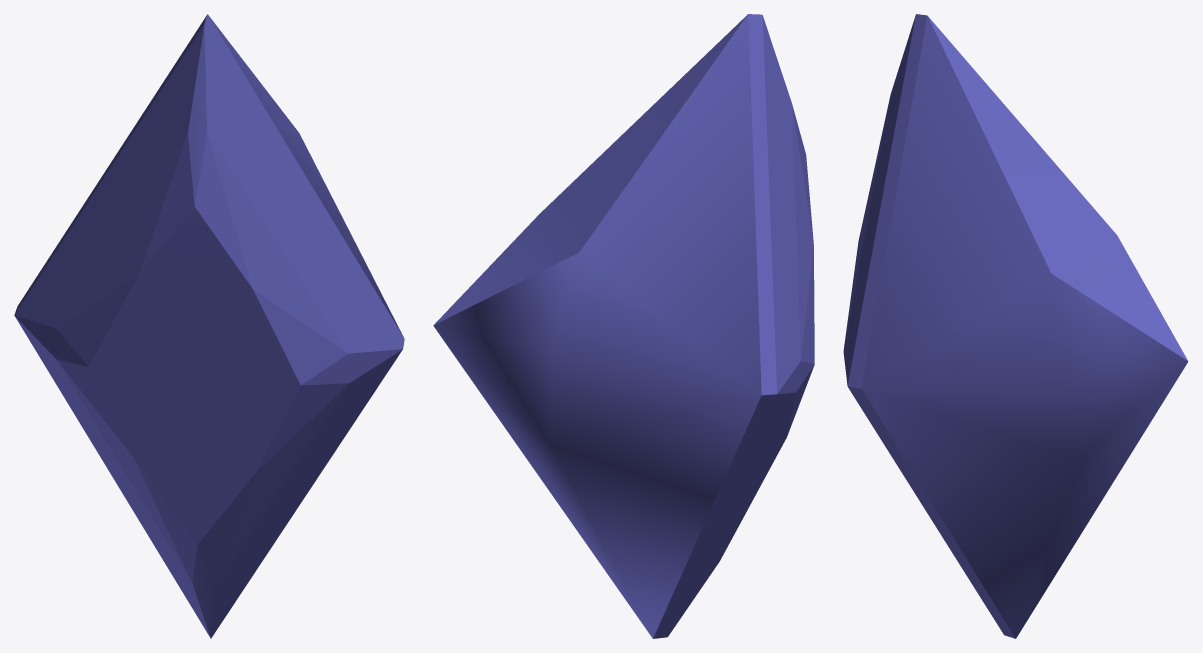
File: BL3_8shapes_Kite_Classic_Stone.001 3.glb
3 views of the same model, side by side, from view 1: azimuth 30°, elevation 25°; view 2: azimuth 150°, elevation 25°; view 3: azimuth 270°, elevation 25° (orthographic). The views are drawn at different scales.
Parts seen in each view (by area): view 1: BL3_8shapes_Kite_Classic_Stone.001; view 2: BL3_8shapes_Kite_Classic_Stone.001; view 3: BL3_8shapes_Kite_Classic_Stone.001.
Boxes of the visible parts, box(x1,y1,x2,y2) form: BL3_8shapes_Kite_Classic_Stone.001: box(14, 14, 404, 638); BL3_8shapes_Kite_Classic_Stone.001: box(433, 14, 814, 638); BL3_8shapes_Kite_Classic_Stone.001: box(843, 14, 1188, 638).
Bounding box in the file's own units: 0.3075 × 0.623 × 0.3249.
